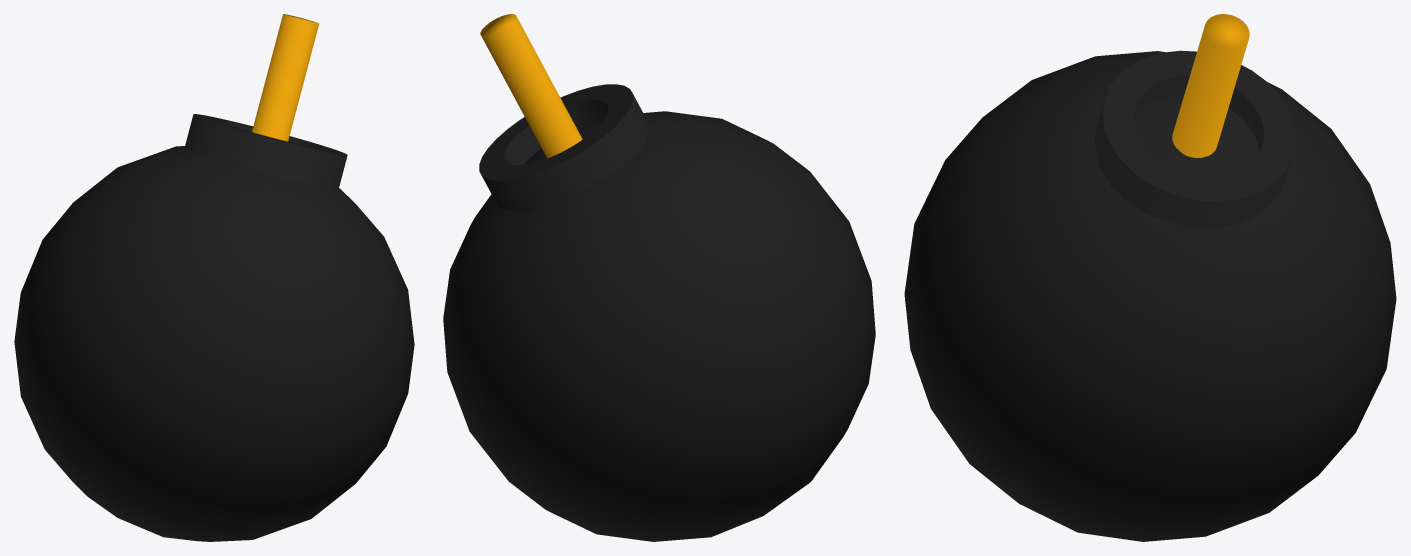
File: bomb.glb
3 views of the same model, side by side, from view 1: azimuth 30°, elevation 25°; view 2: azimuth 150°, elevation 25°; view 3: azimuth 270°, elevation 25° (orthographic). The views are drawn at different scales.
Visible parts, largest first — view 1: Cylinder; view 2: Cylinder; view 3: Cylinder.
Part boxes in pixels (<box>): Cylinder: <box>14,14,414,541</box>; Cylinder: <box>443,14,875,541</box>; Cylinder: <box>904,14,1396,541</box>.
Bounding box in the file's own units: 0.7924 × 1.02 × 0.7965.
